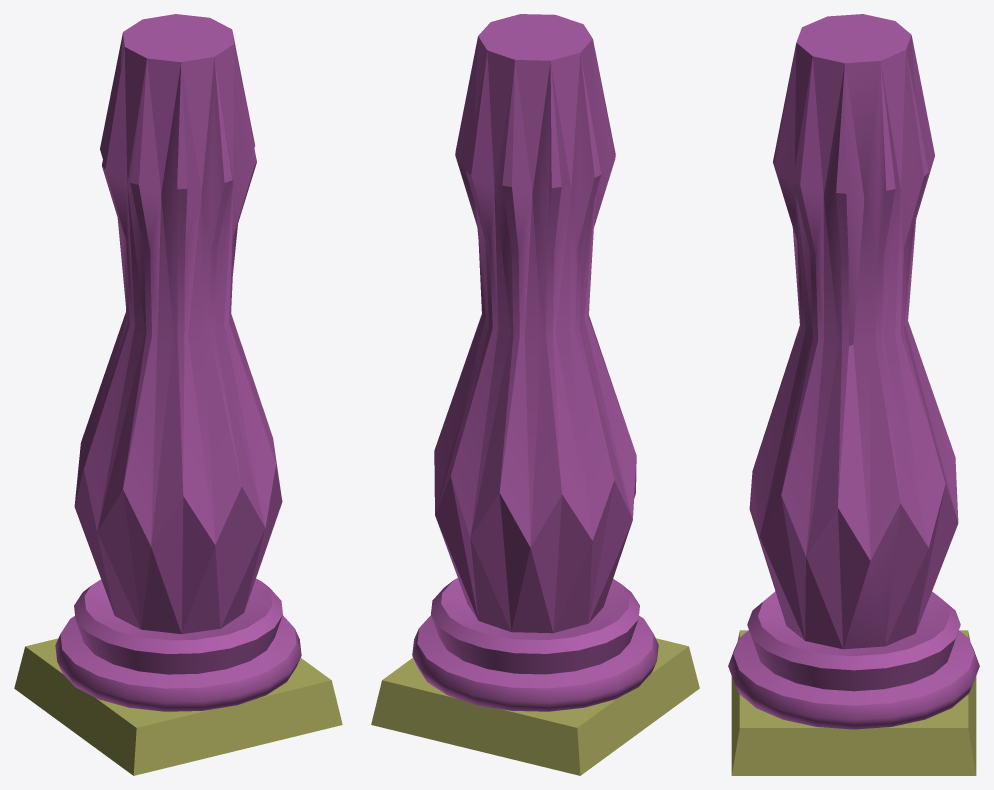
The model's file is SM_AscenseurPilier.fbx.
The picture shows the model from 3 angles, left to right: view 1: azimuth 30°, elevation 25°; view 2: azimuth 150°, elevation 25°; view 3: azimuth 270°, elevation 25°; orthographic projection. The views are drawn at different scales.
Parts seen in each view (by area): view 1: SM_Pilier; view 2: SM_Pilier; view 3: SM_Pilier.
Part boxes in pixels (bbox=[...]): SM_Pilier: bbox=[14, 14, 342, 775]; SM_Pilier: bbox=[371, 14, 699, 775]; SM_Pilier: bbox=[728, 14, 979, 775].
Bounding box in the file's own units: 275 × 817 × 272.
